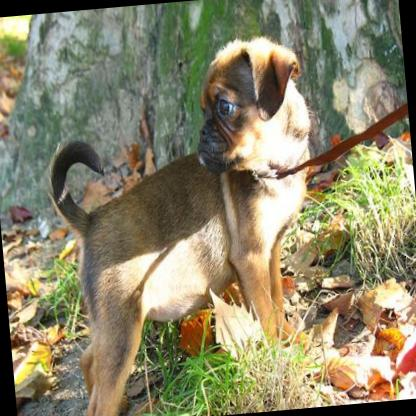Brabancon_griffon: (38, 32, 335, 416)
